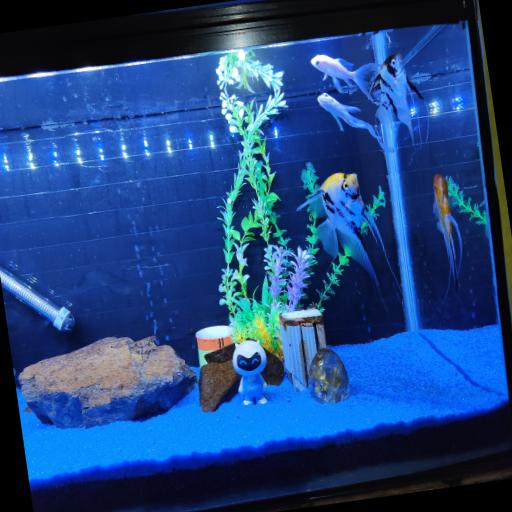Fish: (296, 173, 397, 306), (369, 53, 423, 143), (317, 93, 393, 152), (432, 174, 461, 301), (310, 55, 377, 99)
